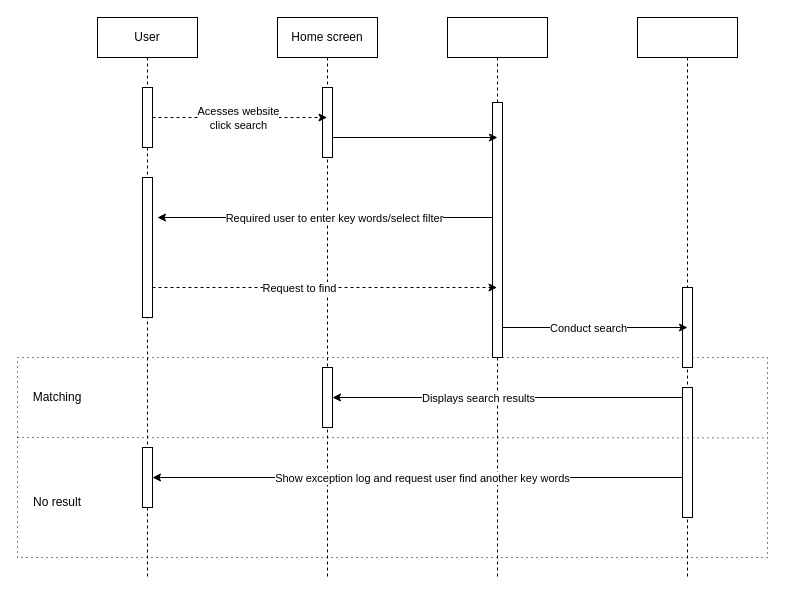
Image size: 793x595. Some labels were removed from this diagram. Here are the shapes that lost their labels. From the top down, the box of each, then its label:
(446, 16, 548, 578): Searching bar
(636, 16, 738, 578): System
